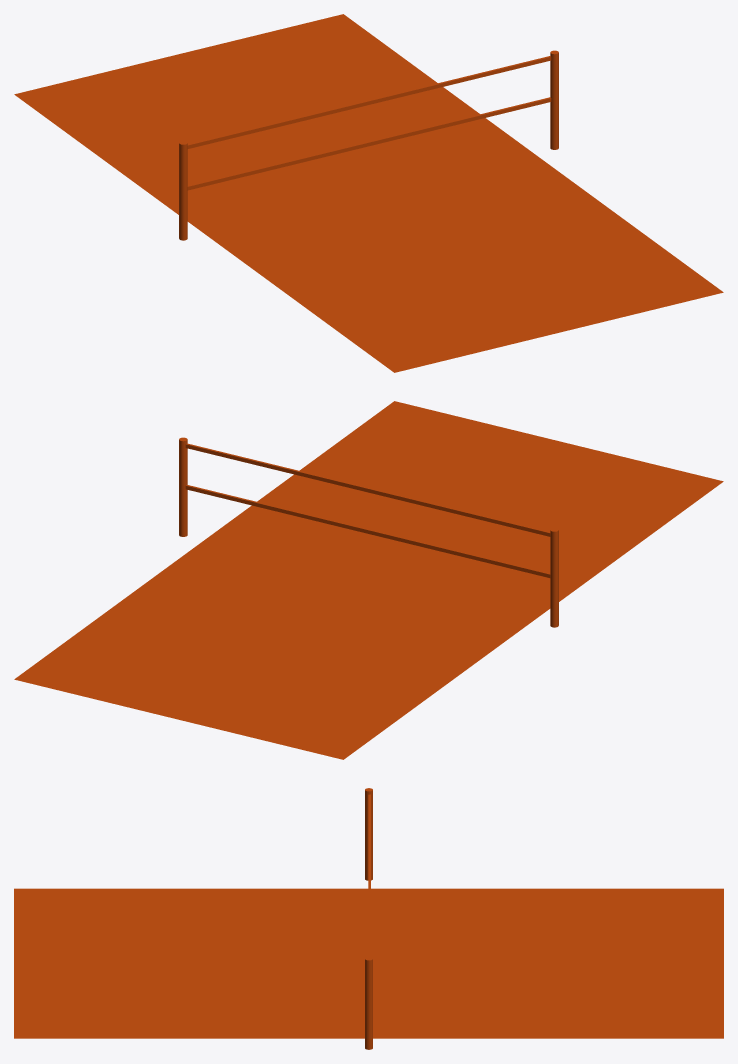
File: Voleyball_Court.obj
3 renders of one model, top to bottom at view 1: azimuth 30°, elevation 25°; view 2: azimuth 150°, elevation 25°; view 3: azimuth 270°, elevation 25°, orthographic. The views are drawn at different scales.
Parts seen in each view (by area): view 1: Plane.002, Plane.003, Plane, Plane.001, Cube.001, Cube, Cylinder.001, Cylinder; view 2: Plane.003, Plane.002, Plane.001, Plane, Cube, Cube.001, Cylinder.001, Cylinder; view 3: Plane.002, Plane.003, Plane, Plane.001, Cylinder, Cylinder.001, Cube.
Part boxes in pixels (bbox=[...]): Plane.002: bbox=[268, 200, 723, 372]; Plane.003: bbox=[14, 14, 469, 186]; Plane: bbox=[204, 153, 596, 279]; Plane.001: bbox=[141, 107, 533, 233]; Cube.001: bbox=[187, 97, 551, 190]; Cube: bbox=[187, 56, 551, 148]; Cylinder.001: bbox=[179, 141, 187, 240]; Cylinder: bbox=[550, 50, 558, 149]; Plane.003: bbox=[14, 587, 469, 759]; Plane.002: bbox=[268, 401, 723, 573]; Plane.001: bbox=[141, 540, 533, 666]; Plane: bbox=[204, 494, 596, 620]; Cube: bbox=[185, 443, 550, 536]; Cube.001: bbox=[185, 485, 550, 577]; Cylinder.001: bbox=[550, 528, 558, 627]; Cylinder: bbox=[179, 437, 187, 536]; Plane.002: bbox=[14, 888, 250, 1038]; Plane.003: bbox=[487, 888, 723, 1038]; Plane: bbox=[250, 888, 368, 1038]; Plane.001: bbox=[371, 888, 487, 1038]; Cylinder: bbox=[365, 957, 372, 1049]; Cylinder.001: bbox=[365, 788, 372, 880]; Cube: bbox=[368, 794, 370, 957].
Bounding box in the file's own units: 10.34 × 2.5 × 18.
